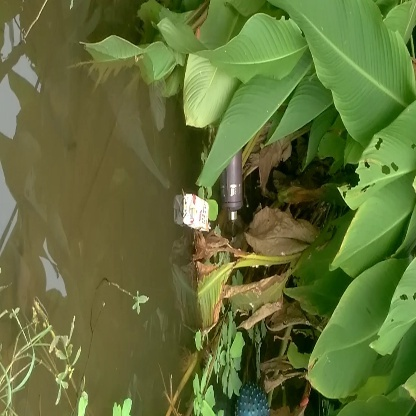bottle: (218, 159, 246, 223)
milk-box: (175, 189, 218, 239)
